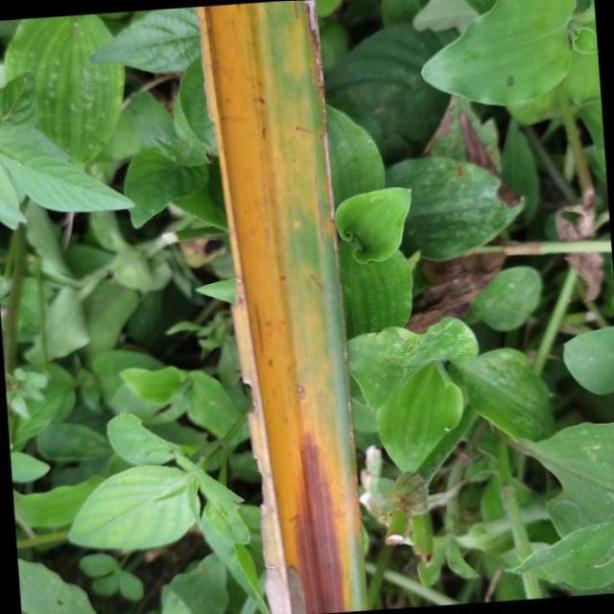Megnesium: (198, 1, 372, 614)
